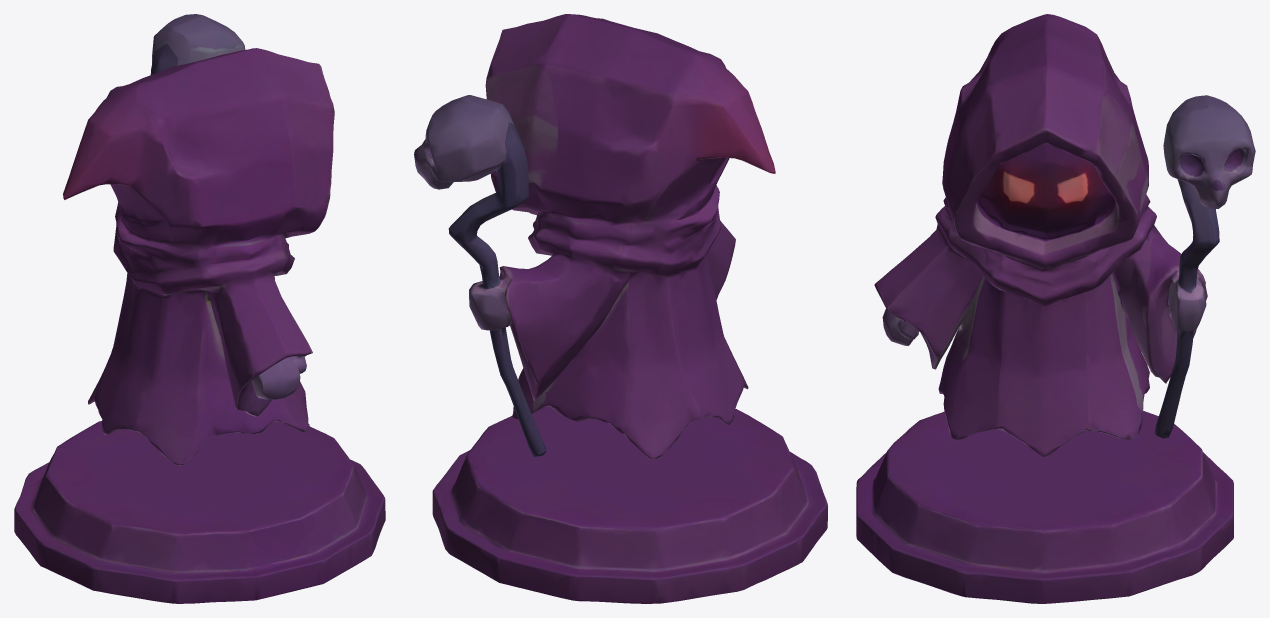
The model's file is ganon_queen_phantom.glb.
The picture shows the model from 3 angles, left to right: view 1: azimuth 30°, elevation 25°; view 2: azimuth 150°, elevation 25°; view 3: azimuth 270°, elevation 25°; orthographic projection. The views are drawn at different scales.
Parts seen in each view (by area): view 1: tripo_node_e85944fc-4683-4110-af7d-c9235b71a394; view 2: tripo_node_e85944fc-4683-4110-af7d-c9235b71a394; view 3: tripo_node_e85944fc-4683-4110-af7d-c9235b71a394.
Part boxes in pixels (x1,y1,x2,y2): tripo_node_e85944fc-4683-4110-af7d-c9235b71a394: (14, 14, 385, 603); tripo_node_e85944fc-4683-4110-af7d-c9235b71a394: (414, 14, 827, 603); tripo_node_e85944fc-4683-4110-af7d-c9235b71a394: (856, 14, 1255, 603).
Size of the model in its own units: 0.6868 by 0.9481 by 0.7044.
1 material, 1 textured.
